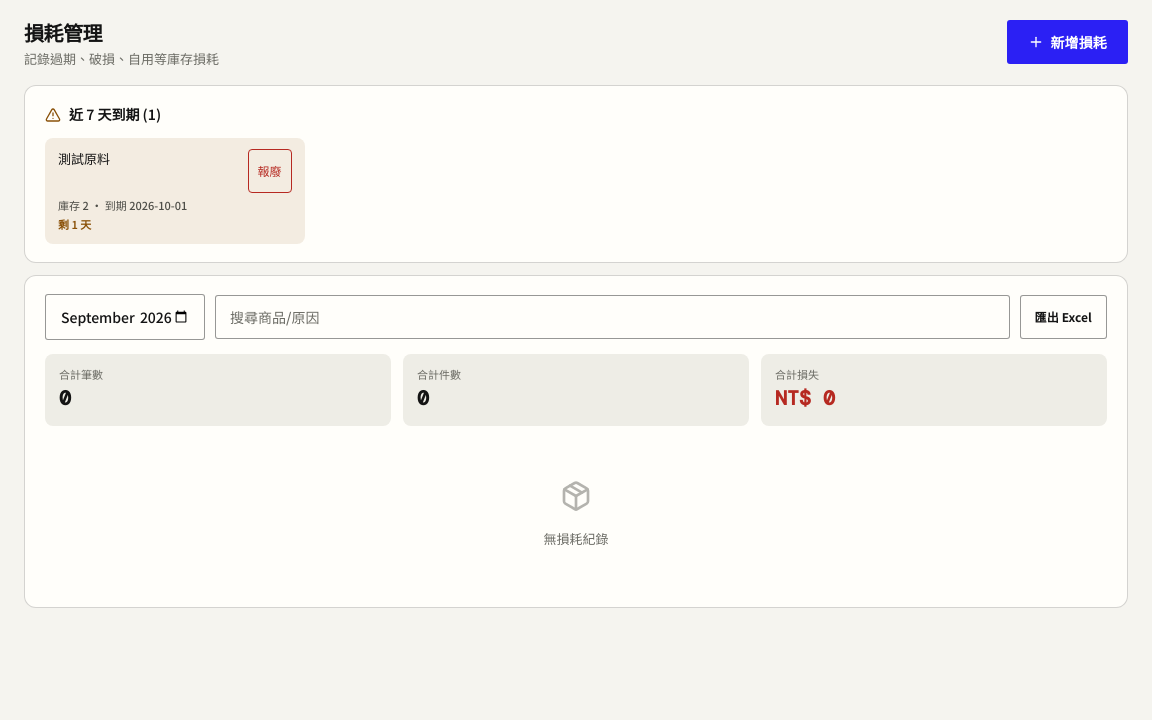
Test case: a rejected waste save preserves the entered quantity and shows an error
Click the button "新增損耗".
click(1068, 42)  # box left=1007, top=20, right=1128, bottom=64
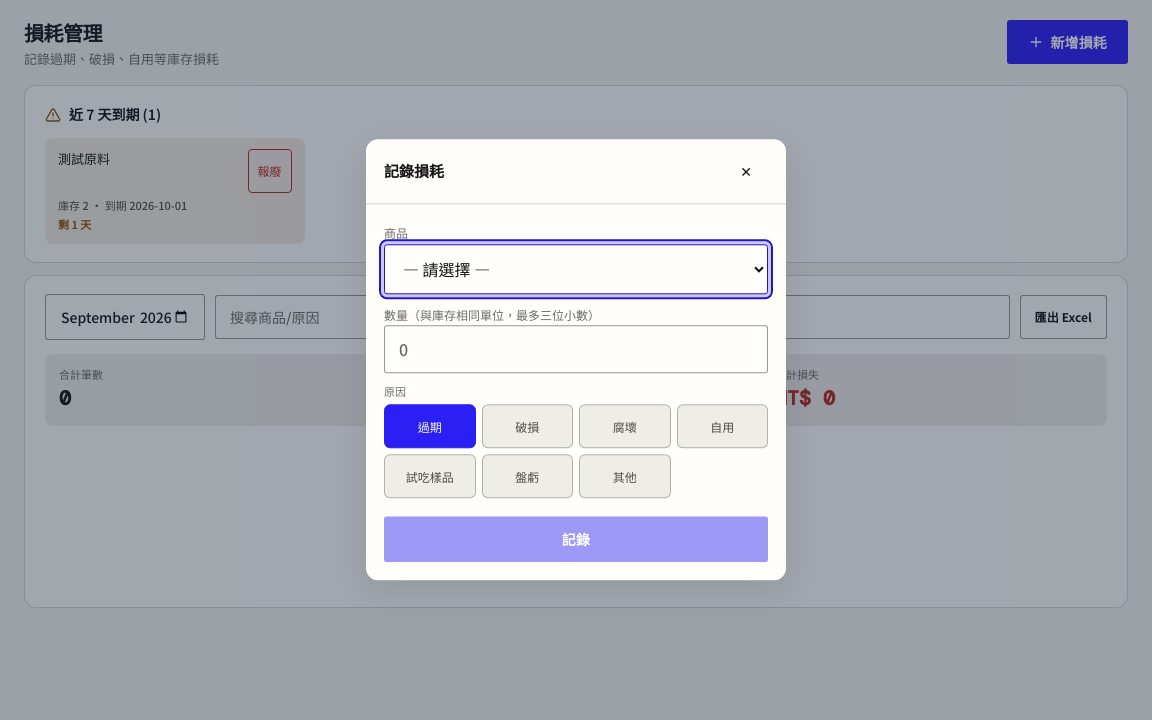
Select "測試原料 (庫存 2)" in the dropdown at [576, 269], box left=384, top=244, right=768, bottom=294
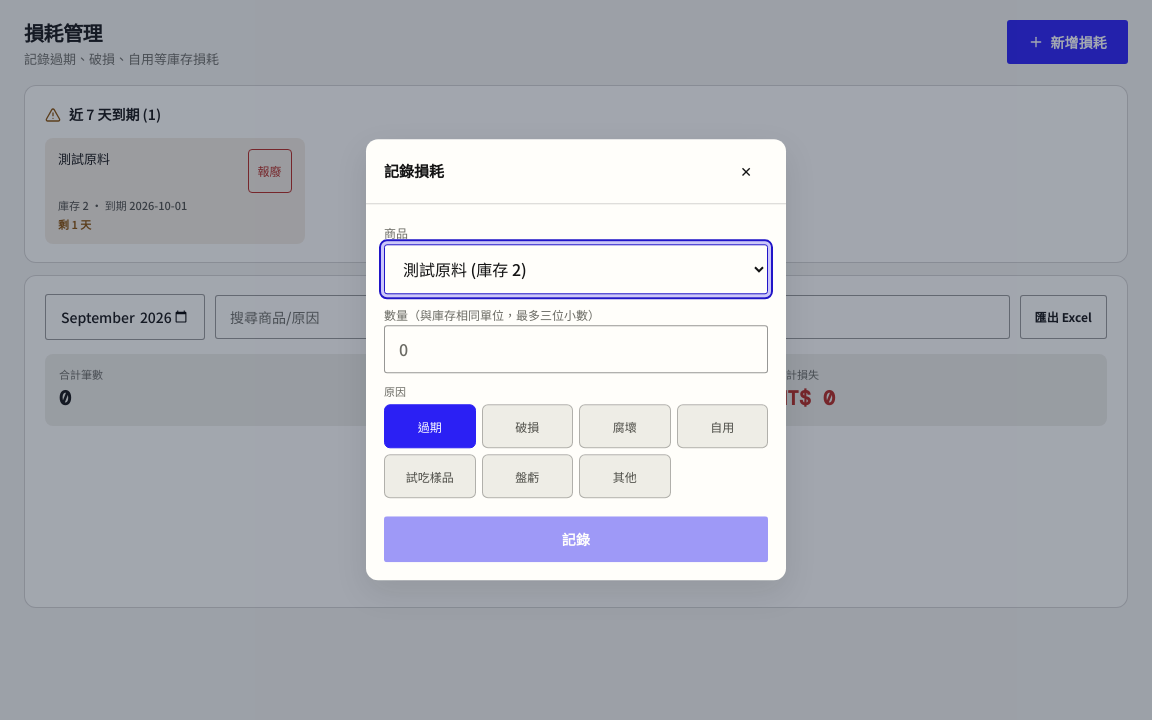
Type "1" into the number field.
click(576, 350); type("1")  # box left=384, top=326, right=768, bottom=374
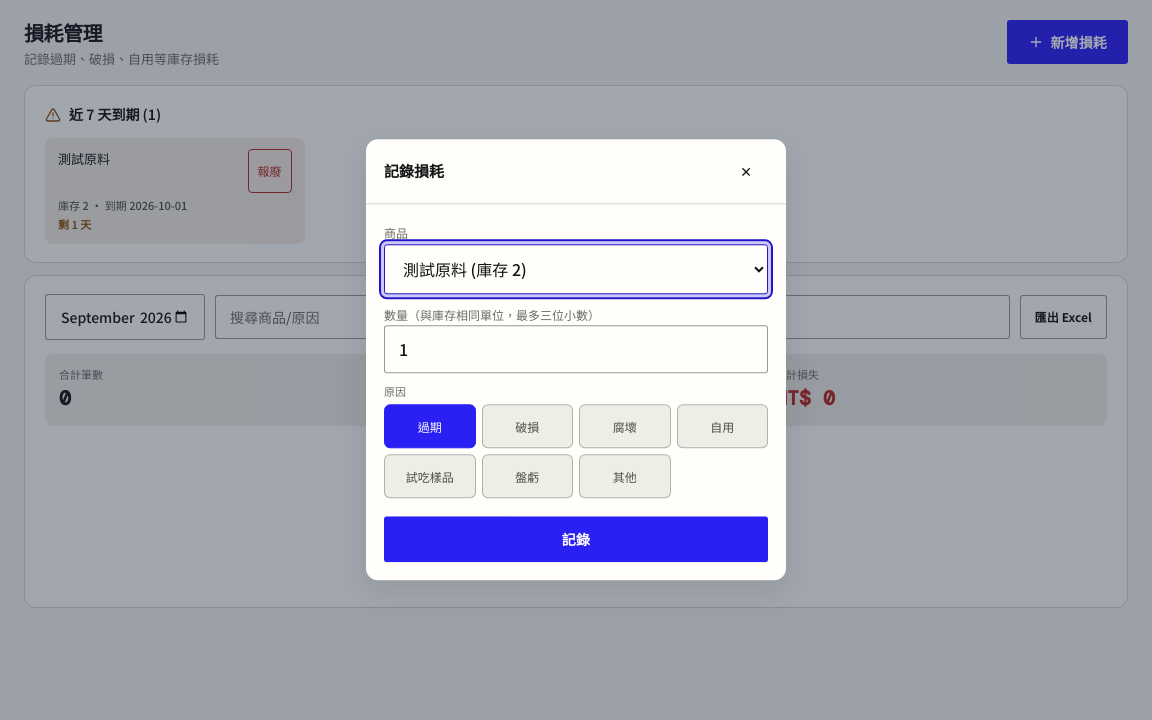
Click the button "記錄".
click(576, 540)  # box left=384, top=517, right=768, bottom=563
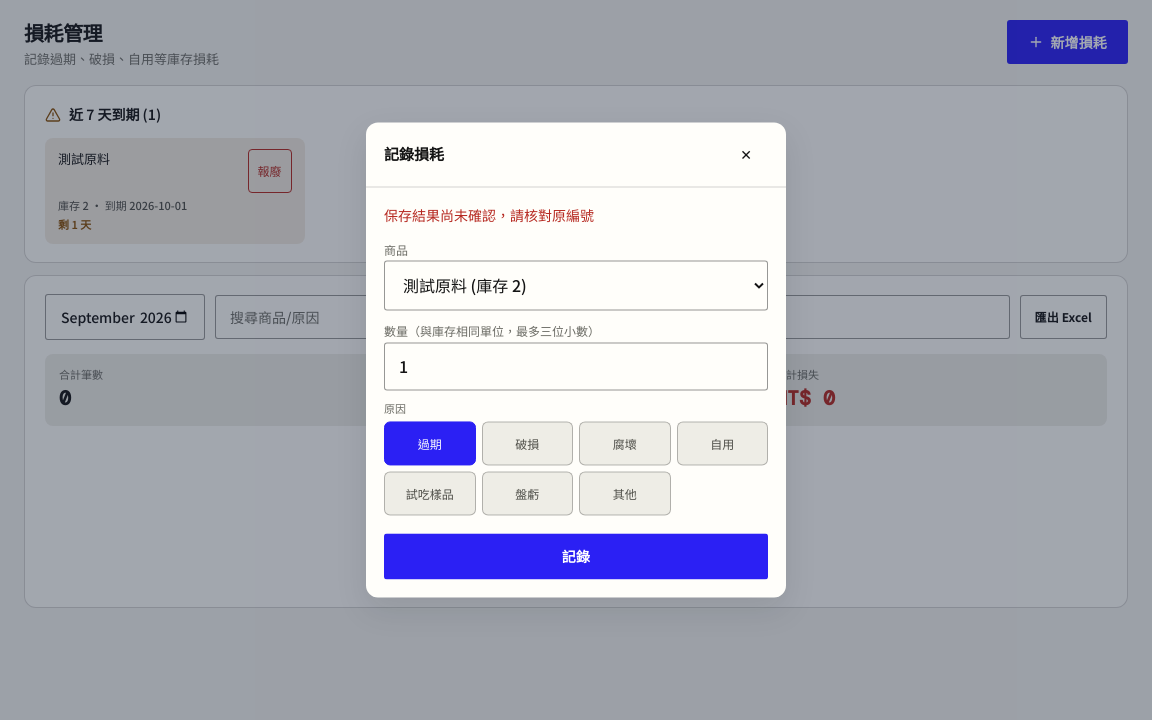
Now the button "記錄" is enabled, box left=384, top=534, right=768, bottom=580
Now the message shows "原編號", box left=384, top=205, right=594, bottom=225
